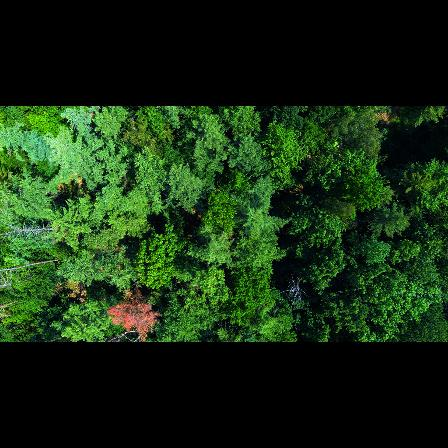Dead: (0, 256, 64, 283), (0, 220, 63, 245)
